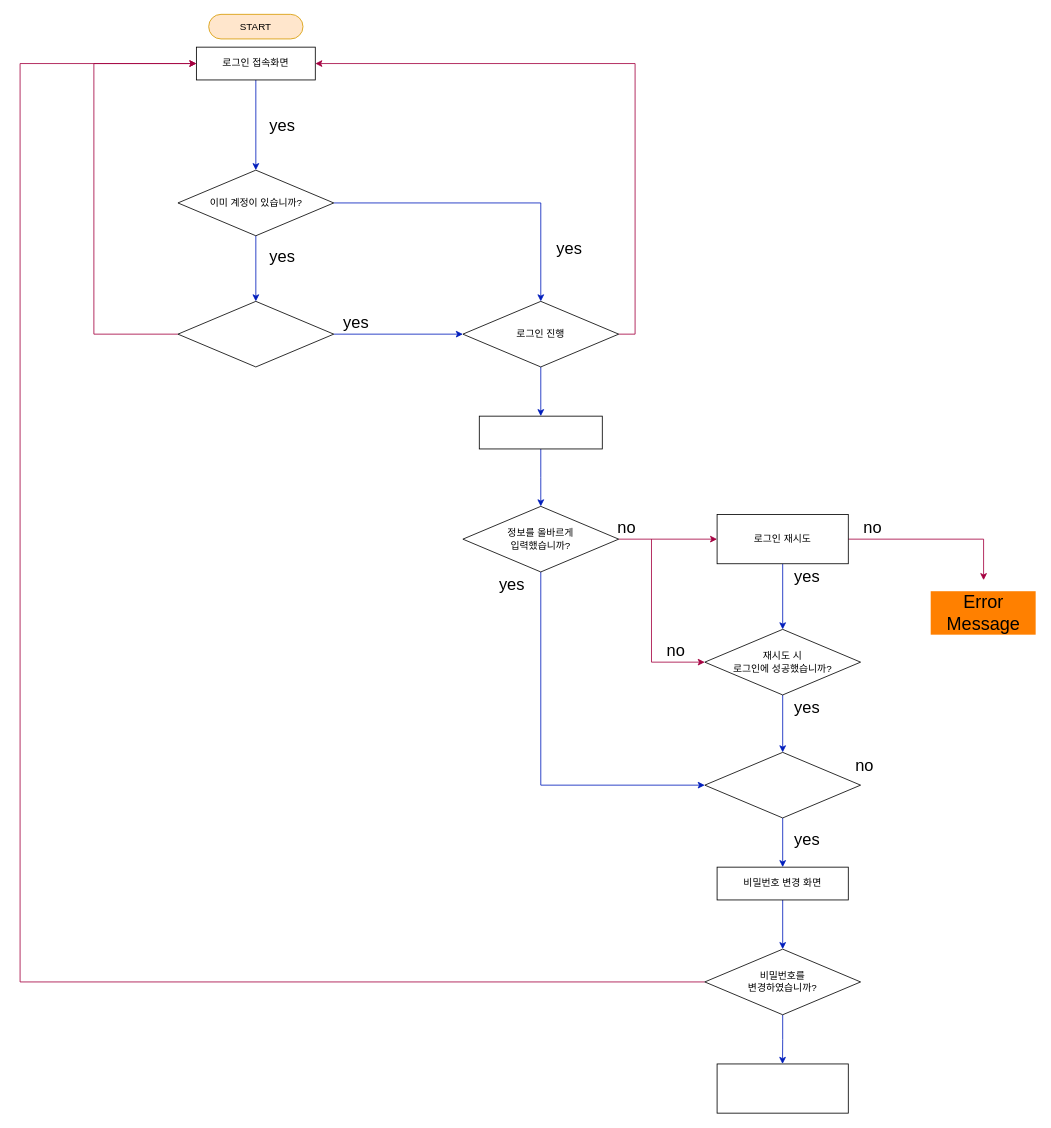
Image size: 1051x1128. Some labels were removed from this diagram. The centre of each missing label's shape, as x and y in pixels:
아이디 / 비밀번호 기입: the point at 540,432
재로그인 안내 알림: the point at 782,1088
최초의 로그인 접급입니까?: the point at 782,785
회원가입 진행: the point at 255,334
